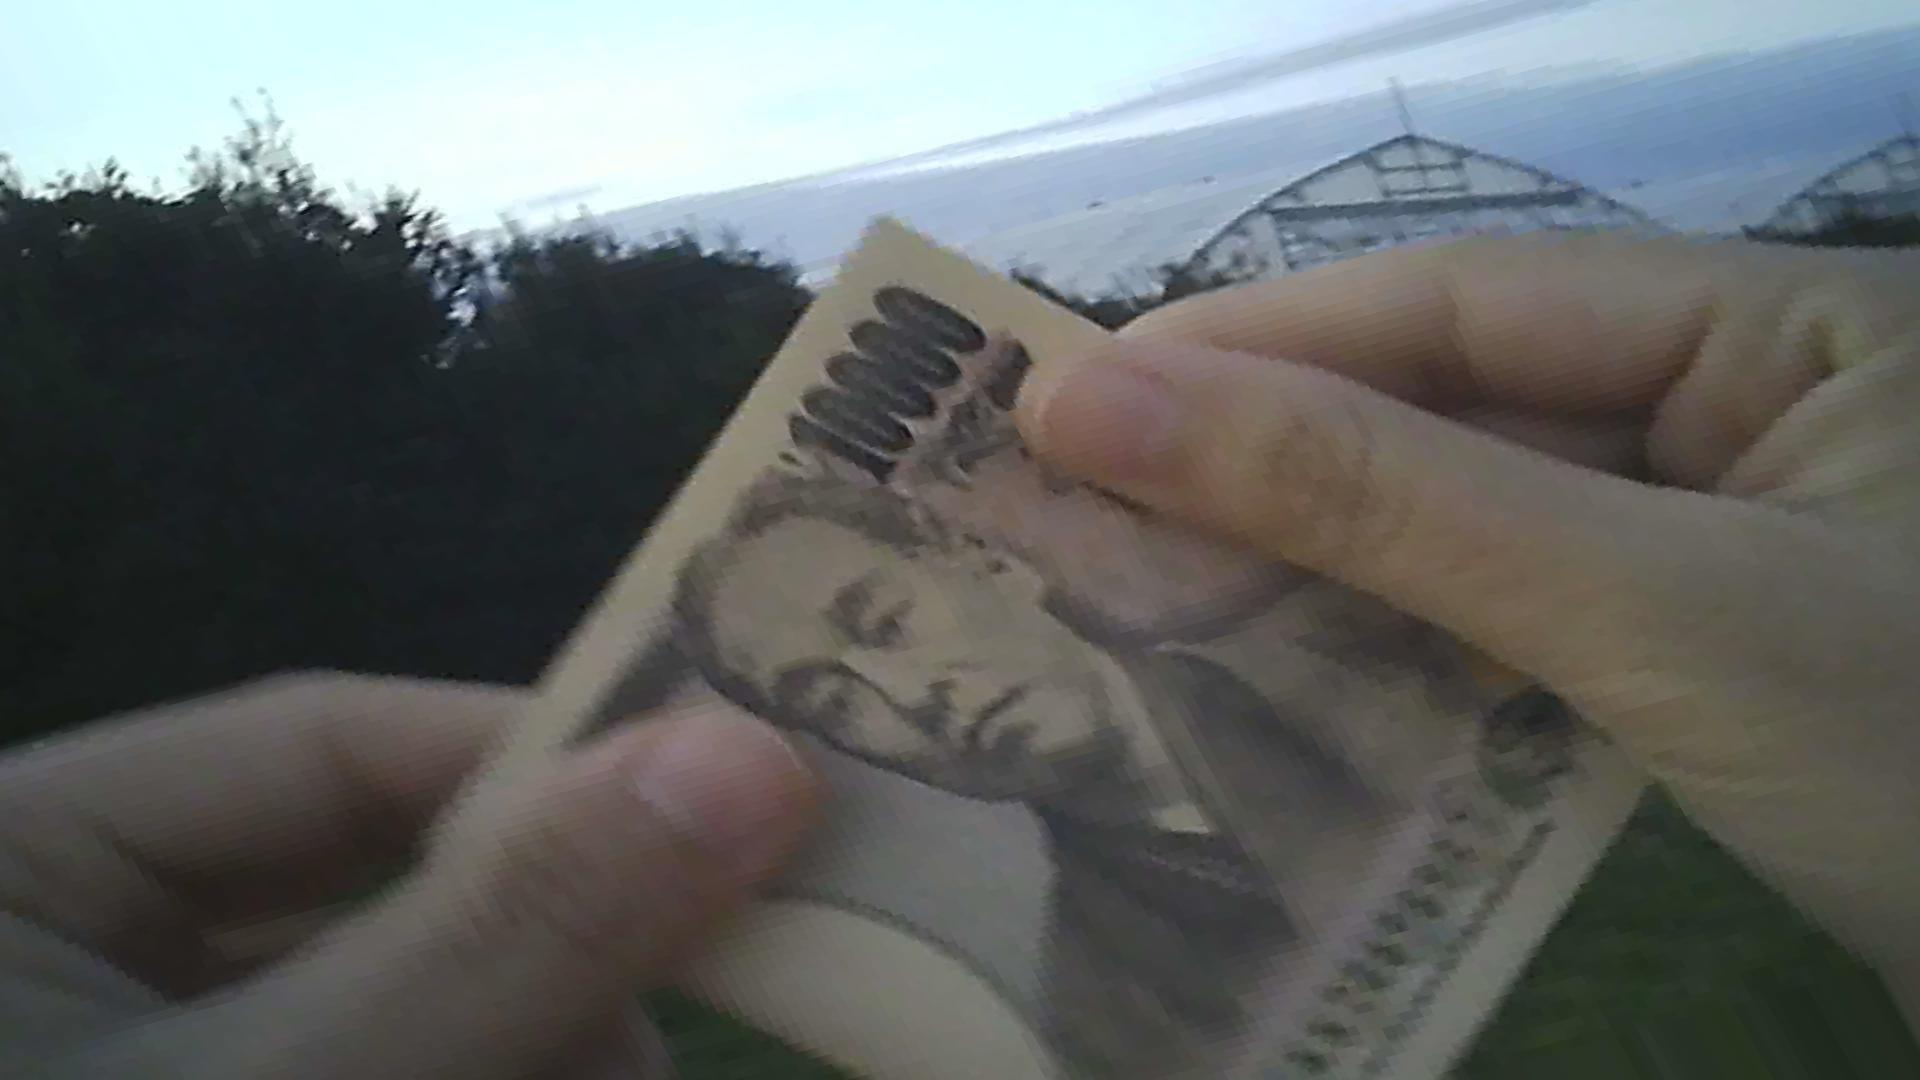10,000 Yen: (460, 229, 1625, 1079)
